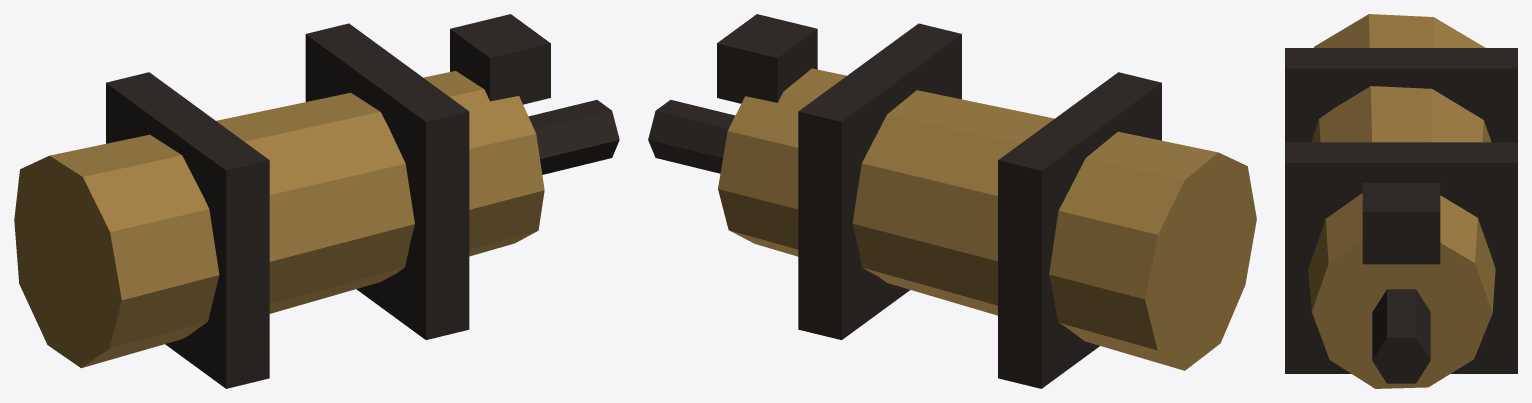
File: wext_air_tank.glb
The picture shows the model from 3 angles, left to right: view 1: azimuth 30°, elevation 25°; view 2: azimuth 150°, elevation 25°; view 3: azimuth 270°, elevation 25°; orthographic projection. The views are drawn at different scales.
Visible parts, largest first — view 1: wext_air_tank; view 2: wext_air_tank; view 3: wext_air_tank.
Boxes of the visible parts, left/top/right/bottom form: wext_air_tank: left=14, top=14, right=619, bottom=388; wext_air_tank: left=648, top=14, right=1256, bottom=388; wext_air_tank: left=1285, top=14, right=1517, bottom=388.
Size of the model in its own units: 0.6223 by 0.25 by 0.24.
